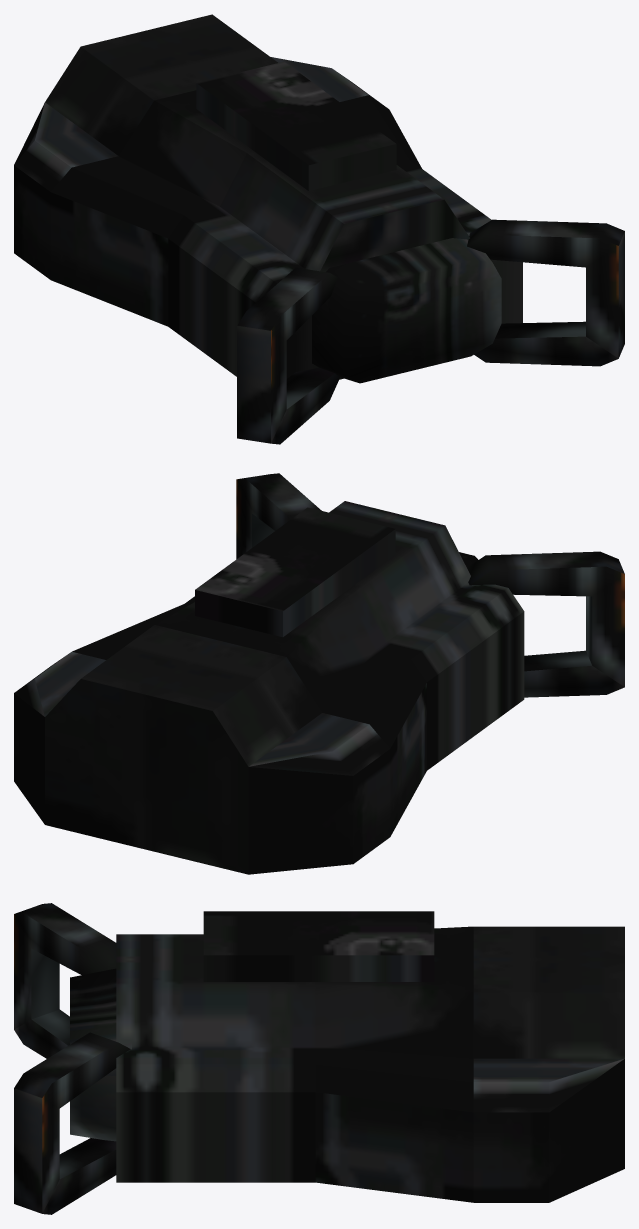
File: SpaceGun.glb
3 views of the same model, one above another, from view 1: azimuth 30°, elevation 25°; view 2: azimuth 150°, elevation 25°; view 3: azimuth 270°, elevation 25° (orthographic). The views are drawn at different scales.
Size of the model in its own units: 0.2047 by 0.0941 by 0.2722.
Materials: 1 (1 with a texture image).
